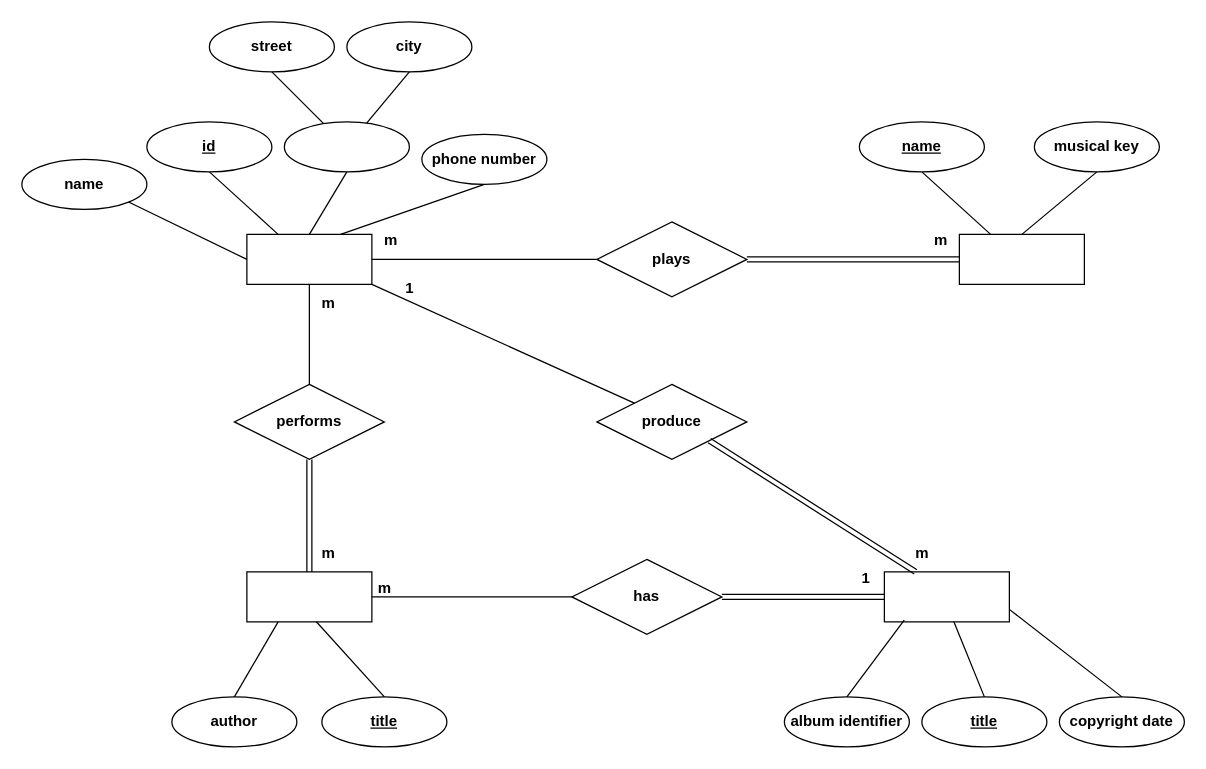
Image size: 1206x769. Some labels were removed from this diagram. Each missing label, with the centre of its shape:
address: the point at 346,146
Album: the point at 946,596
Instrument: the point at 1021,258
Musician: the point at 309,258
Song: the point at 309,596
